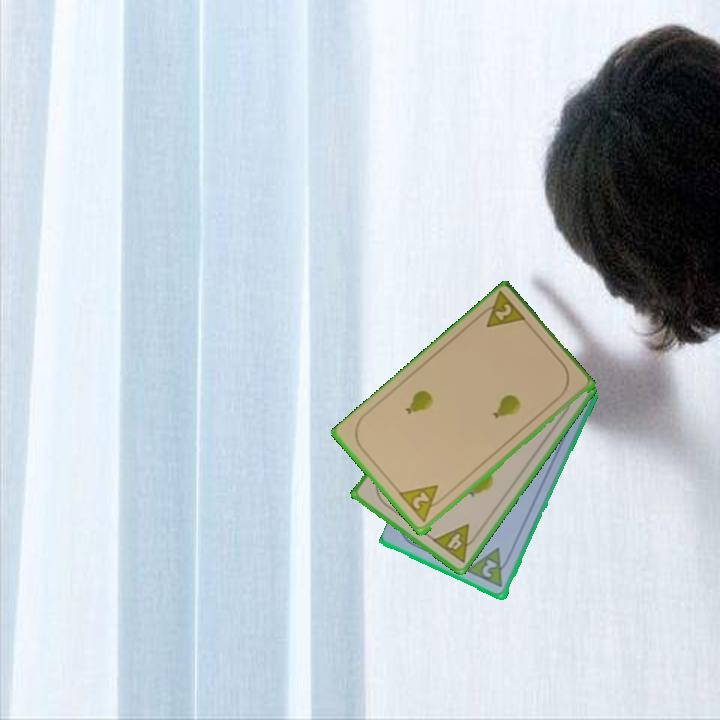2p: (474, 289, 530, 331), (464, 545, 514, 591), (396, 481, 448, 525)
4p: (429, 520, 483, 566)
